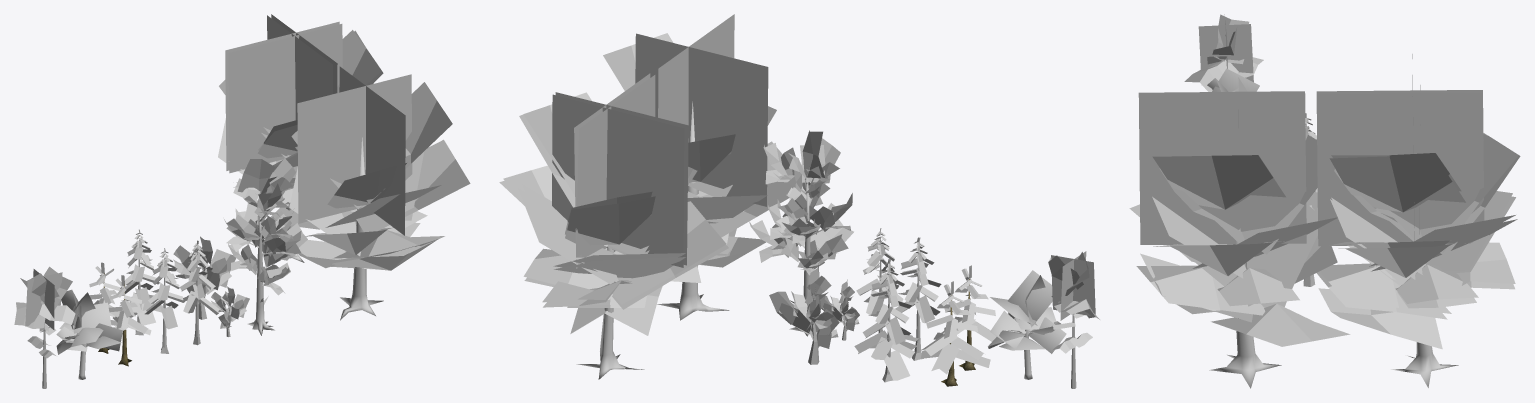
File: Forest Trees.fbx
3 views of the same model, side by side, from view 1: azimuth 30°, elevation 25°; view 2: azimuth 150°, elevation 25°; view 3: azimuth 270°, elevation 25° (orthographic). The views are drawn at different scales.
Parts seen in each view (by area): view 1: Tree, Tree_11, Tree_1, Tree_7, Tree_6, Tree_10, Tree_9, Tree_4, Tree_3, Tree_5, Tree_2, Tree_8; view 2: Tree_11, Tree, Tree_1, Tree_6, Tree_7, Tree_9, Tree_10, Tree_8, Tree_4, Tree_5, Tree_3, Tree_2; view 3: Tree_11, Tree, Tree_7, Tree_6.
Part boxes in pixels (x1,y1,x2,y2): Tree: (289, 66, 470, 320); Tree_11: (218, 14, 383, 264); Tree_1: (224, 158, 307, 335); Tree_7: (14, 266, 75, 388); Tree_6: (56, 289, 122, 379); Tree_10: (173, 236, 235, 319); Tree_9: (121, 229, 162, 335); Tree_4: (145, 248, 185, 353); Tree_3: (179, 240, 219, 345); Tree_5: (108, 275, 151, 366); Tree_2: (211, 286, 249, 336); Tree_8: (89, 262, 120, 353); Tree_11: (499, 73, 728, 379); Tree: (603, 14, 793, 320); Tree_1: (749, 130, 853, 336); Tree_6: (988, 270, 1066, 379); Tree_7: (1048, 251, 1099, 388); Tree_9: (854, 259, 918, 382); Tree_10: (769, 263, 839, 364); Tree_8: (920, 281, 990, 386); Tree_4: (895, 237, 941, 360); Tree_5: (939, 265, 996, 370); Tree_3: (856, 228, 903, 332); Tree_2: (820, 279, 859, 340); Tree_11: (1309, 54, 1520, 387); Tree: (1129, 91, 1350, 388); Tree_7: (1184, 14, 1263, 91); Tree_6: (1207, 68, 1259, 91).
Bounding box in the file's own units: 4071 × 1989 × 2488.
